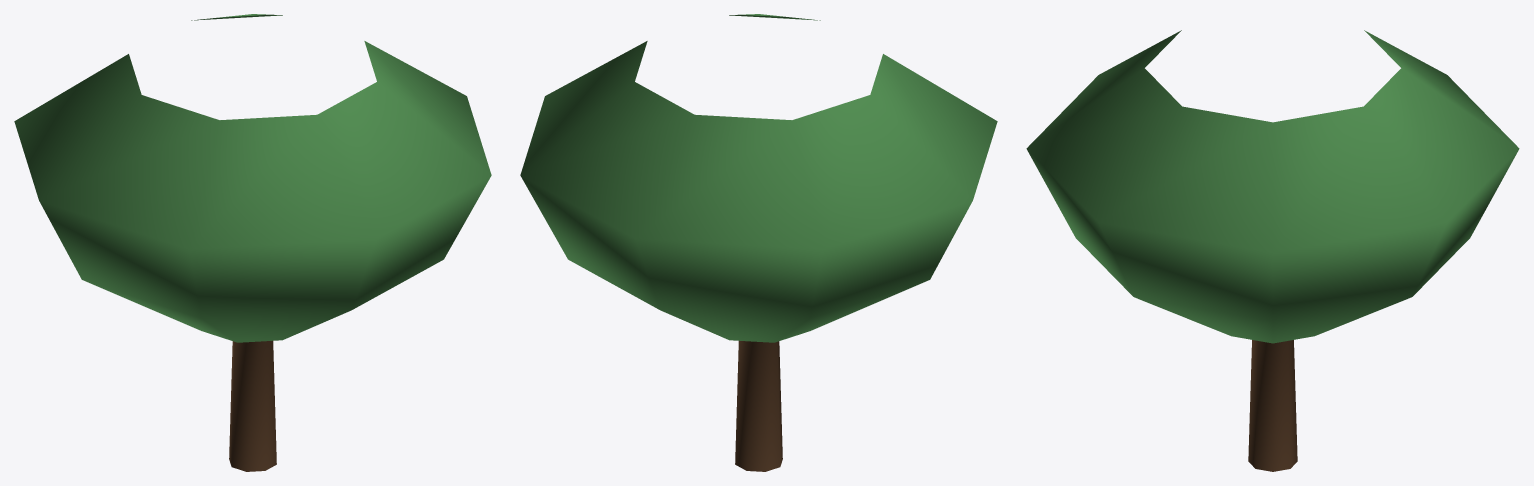
File: small-round.gltf
The picture shows the model from 3 angles, left to right: view 1: azimuth 30°, elevation 25°; view 2: azimuth 150°, elevation 25°; view 3: azimuth 270°, elevation 25°; orthographic projection.
Visible parts, largest first — view 1: small-round; view 2: small-round; view 3: small-round.
Part boxes in pixels (x1,y1,x2,y2): small-round: [14, 14, 491, 471]; small-round: [520, 14, 997, 471]; small-round: [1026, 30, 1519, 471].
Bounding box in the file's own units: 1 × 1 × 1.
